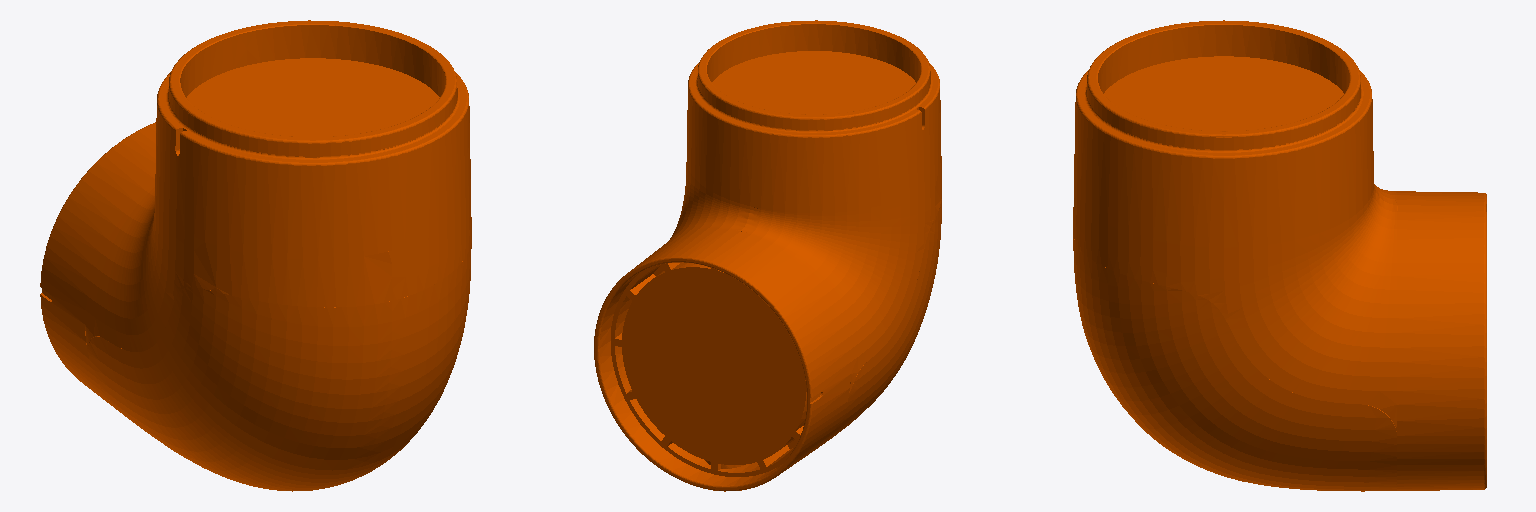
URDF robot description (mycobot_ai):
<?xml version="1.0"?>
<robot xmlns:xacro="http://www.ros.org/wiki/xacro" name="mycobot_ai">


  <link name="env">
    <visual>
      <geometry>
        <!--- 0.0 0 -0.04  1.5708 3.14159-->
        <mesh filename="package://mycobot_description/urdf/mycobot_pi/suit_env_v2.dae"/>
      </geometry>
      <!-- <origin xyz = "0 0 -0.02 " rpy = "1.5708 0 -1.5708"/> -->
      <origin xyz = "0.16 0 0.0 " rpy = "0 0 3.14159"/>
    </visual>
  </link>

  <link name="joint1">
    <visual>
      <geometry>
        <!--- 0.0 0 -0.04  1.5708 3.14159-->
        <mesh filename="package://mycobot_description/urdf/mycobot_pi/joint1_pi.dae"/>
      </geometry>
      <origin xyz = "0.0 0 0 " rpy = " 0 0 0"/>
    </visual>
    <collision>
      <geometry>
        <!--- 0.0 0 -0.04  1.5708 3.14159-->
        <mesh filename="package://mycobot_description/urdf/mycobot_pi/joint1_pi.dae"/>
      </geometry>
      <origin xyz = "0.0 0 0 " rpy = " 0 0 0"/>
    </collision>
  </link>

  <link name="joint2">
    <visual>
      <geometry>
        <mesh filename="package://mycobot_description/urdf/mycobot_pi/joint2.dae"/>
      </geometry>
      <origin xyz = "0.0 0 -0.06096 " rpy = " 0 0 -1.5708"/>
    </visual>
    <collision>
      <geometry>
        <mesh filename="package://mycobot_description/urdf/mycobot_pi/joint2.dae"/>
      </geometry>
      <origin xyz = "0.0 0 -0.06096 " rpy = " 0 0 -1.5708"/>
    </collision>
  </link>


  <link name="joint3">
    <visual>
      <geometry>
        <mesh filename="package://mycobot_description/urdf/mycobot_pi/joint3.dae"/>
      </geometry>
      <origin xyz = "0.0 0 0.03256 " rpy = " 0 -1.5708 0"/>
    </visual>
    <collision>
      <geometry>
        <mesh filename="package://mycobot_description/urdf/mycobot_pi/joint3.dae"/>
      </geometry>
      <origin xyz = "0.0 0 0.03256 " rpy = " 0 -1.5708 0"/>
    </collision>
  </link>


  <link name="joint4">
    <visual>
      <geometry>
        <!--- 0.0 0 -0.04 -->
        <mesh filename="package://mycobot_description/urdf/mycobot_pi/joint4.dae"/>
      </geometry>
      <origin xyz = "0.0 0 0.03056 " rpy = " 0 -1.5708 0"/>
    </visual>
    <collision>
      <geometry>
        <!--- 0.0 0 -0.04 -->
        <mesh filename="package://mycobot_description/urdf/mycobot_pi/joint4.dae"/>
      </geometry>
      <origin xyz = "0.0 0 0.03056 " rpy = " 0 -1.5708 0"/>
    </collision>
  </link>


  <link name="joint5">
    <visual>
      <geometry>
        <!--- 0.0 0 -0.04 -->
        <mesh filename="package://mycobot_description/urdf/mycobot_pi/joint5.dae"/>
      </geometry>
      <origin xyz = "0.0 0 -0.03356 " rpy = "0 -1.5708 1.5708"/>
    </visual>
    <collision>
      <geometry>
        <!--- 0.0 0 -0.04 -->
        <mesh filename="package://mycobot_description/urdf/mycobot_pi/joint5.dae"/>
      </geometry>
      <origin xyz = "0.0 0 -0.03356 " rpy = "0 -1.5708 1.5708"/>
    </collision>
  </link>


  <link name="joint6">
    <visual>
      <geometry>
        <!--- 0.0 0 -0.04 -->
        <mesh filename="package://mycobot_description/urdf/mycobot_pi/joint6.dae"/>
      </geometry>
      <origin xyz = "0 0.00 -0.038 " rpy = " 0 0 0"/>
    </visual>
    <collision>
      <geometry>
        <!--- 0.0 0 -0.04 -->
        <mesh filename="package://mycobot_description/urdf/mycobot_pi/joint6.dae"/>
      </geometry>
      <origin xyz = "0 0.00 -0.038 " rpy = " 0 0 0"/>
    </collision>
  </link>


  <link name="joint6_flange">
    <visual>
      <geometry>
        <!--- 0.0 0 -0.04 -->
        <mesh filename="package://mycobot_description/urdf/mycobot_pi/joint7.dae"/>
      </geometry>
      <origin xyz = "0.0 0 -0.012 " rpy = " 0 0 0"/>
    </visual>
    <collision>
      <geometry>
        <!--- 0.0 0 -0.04 -->
        <mesh filename="package://mycobot_description/urdf/mycobot_pi/joint7.dae"/>
      </geometry>
      <origin xyz = "0.0 0 -0.012 " rpy = " 0 0 0"/>
    </collision>
  </link>





  <joint name="joint2_to_joint1" type="revolute">
    <axis xyz="0 0 1"/>
    <limit effort = "1000.0" lower = "-3.14" upper = "3.14159" velocity = "0"/>
    <parent link="joint1"/>
    <child link="joint2"/>
    <origin xyz= "0 0 0.13156" rpy = "0 0 0"/>
  </joint>

  <joint name="joint3_to_joint2" type="revolute">
    <axis xyz="0 0 1"/>
    <limit effort = "1000.0" lower = "-3.14" upper = "3.14159" velocity = "0"/>
    <parent link="joint2"/>
    <child link="joint3"/>
    <origin xyz= "0 0  0" rpy = "0 1.5708 -1.5708"/>
  </joint>


  <joint name="joint4_to_joint3" type="revolute">
    <axis xyz=" 0 0 1"/>
    <limit effort = "1000.0" lower = "-3.14" upper = "3.14159" velocity = "0"/>
    <parent link="joint3"/>
    <child link="joint4"/>
    <origin xyz= "  -0.1104 0 0   " rpy = "0 0 0"/>
  </joint>



  <joint name="joint5_to_joint4" type="revolute">
    <axis xyz=" 0 0 1"/>
    <limit effort = "1000.0" lower = "-3.14" upper = "3.14159" velocity = "0"/>
    <parent link="joint4"/>
    <child link="joint5"/>
    <origin xyz= "-0.096 0 0.06462" rpy = "0 0 -1.5708"/>
  </joint>

  <joint name="joint6_to_joint5" type="revolute">
    <axis xyz="0 0 1"/>
    <limit effort = "1000.0" lower = "-3.14" upper = "3.14159" velocity = "0"/>
    <parent link="joint5"/>
    <child link="joint6"/>
    <origin xyz= "0 -0.07318 0" rpy = "1.5708 -1.5708 0"/>
  </joint>

  <joint name="joint6output_to_joint6" type="revolute">
    <axis xyz="0 0 1"/>
    <limit effort = "1000.0" lower = "-3.14" upper = "3.14159" velocity = "0"/>
    <parent link="joint6"/>
    <child link="joint6_flange"/>
    <origin xyz= "0 0.0456 0" rpy = "-1.5708 0 0"/>
  </joint>

  <joint name="vision_joint" type="fixed">
    <axis xyz="0 0 0"/>
    <limit effort = "1000.0" lower = "-3.14" upper = "3.14159" velocity = "0"/>
    <parent link="joint1"/>
    <child link="env"/>
    <origin xyz= "0 0 0" rpy = "0 0 0"/>
  </joint>

</robot>

--- What the picture shows (computed from the rendered views, not written in the file) ---
3 views of the same robot in one strip: view 1: azimuth 30°, elevation 25°; view 2: azimuth 150°, elevation 25°; view 3: azimuth 270°, elevation 25° (orthographic).
Robot: mycobot_ai — 8 links, 7 joints (6 revolute, 1 fixed); root link joint1; default pose: all joints at 0.
Visible links, largest first — view 1: joint5; view 2: joint5; view 3: joint5.
Boxes of the visible links, x1,y1,x2,y2 form: joint5: (40,20,471,491); joint5: (594,20,941,491); joint5: (1073,20,1486,491).
Bounding box of the posed robot: 0.0386 × 0.0528 × 0.0563 m (x, y, z).
1 mesh visuals loaded from 8 distinct referenced files (1 Collada DAE); not drawn: 7 (reference not matched to a file when rendering).